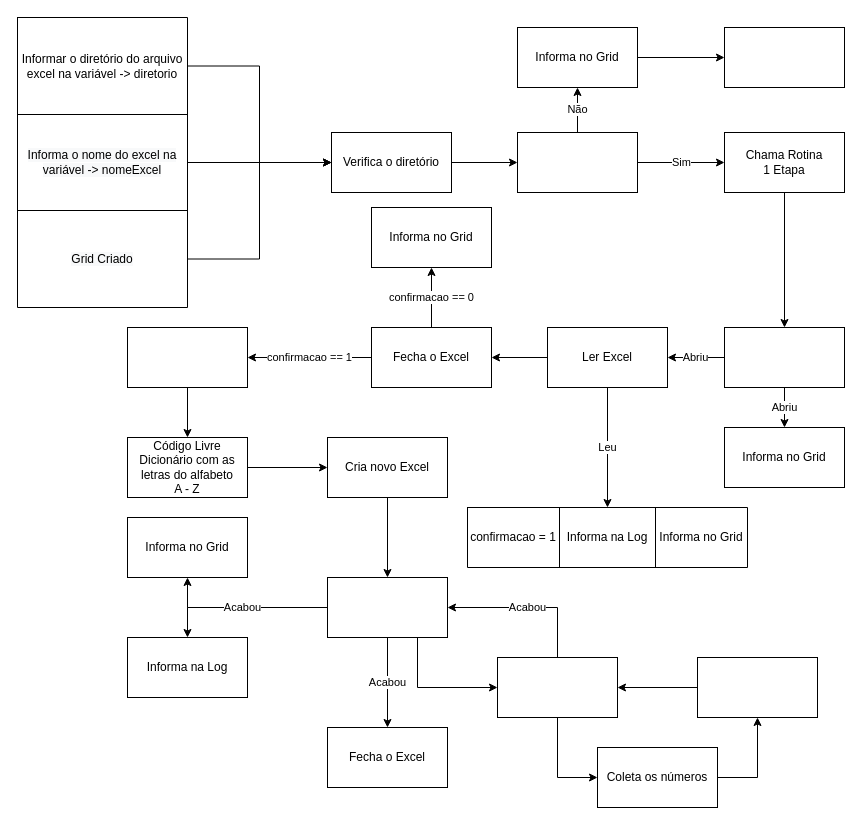
The diagram is 862 pixels wide and 825 high, and some of its shapes have lost their labels. The centre of each missing label's shape, as x and y in pixels:
"Abrir Excel" goes at [784,357].
"Chama Rotina 2 Etapa" goes at [187,357].
"Diretório Existe?" goes at [577,162].
"Manipula os dados do novo Excel" goes at [757,687].
"Robô Finaliza" goes at [784,57].
"Varrer Excel" goes at [387,607].
"Varrer Lista" goes at [557,687].
